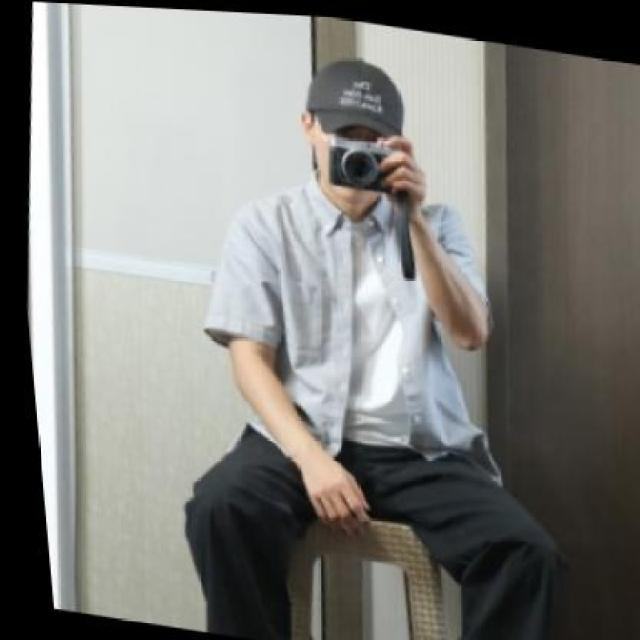hat: (294, 40, 409, 140)
